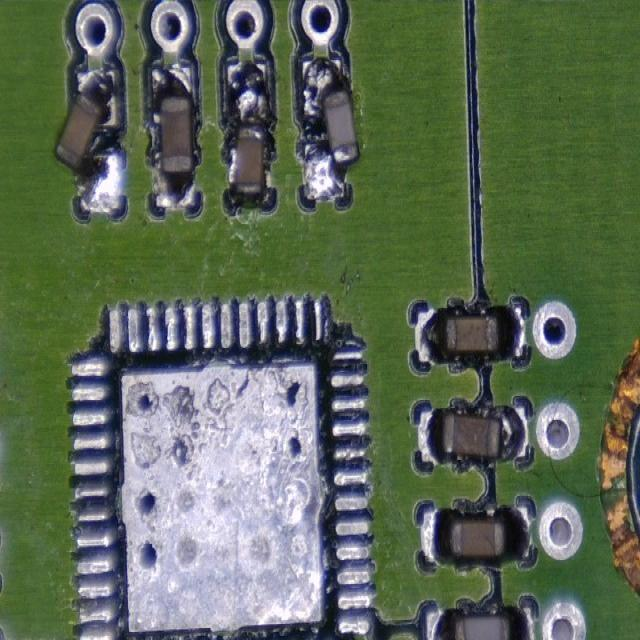Incorrect_installation: (55, 69, 121, 213), (302, 60, 359, 200), (225, 61, 269, 203)
